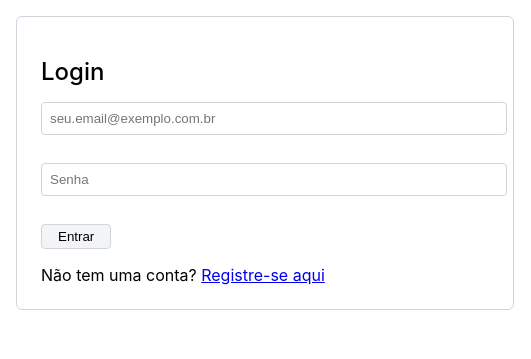
it: LoginPage Component › shows success message when login is successful
Type "test@example.com" into the field with placeholder "seu.email@exemplo.com.br" at {"x": 274, "y": 119}, box x1=41 y1=102 x2=507 y2=135
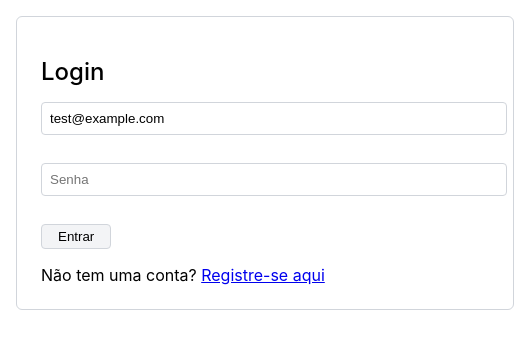
Type "password123" into the password field with placeholder "Senha" at {"x": 274, "y": 180}, box x1=41 y1=163 x2=507 y2=196
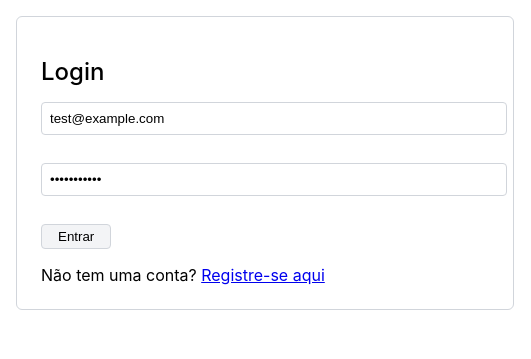
Note: Submit the form
Click the button "Entrar" at {"x": 76, "y": 237}, box x1=41 y1=224 x2=111 y2=249
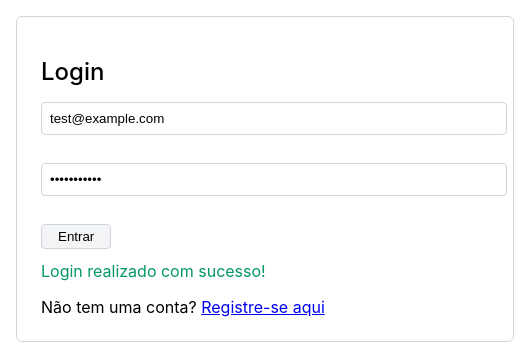
Check: the text "Login realizado com sucesso!" is shown, box x1=41 y1=261 x2=266 y2=281
